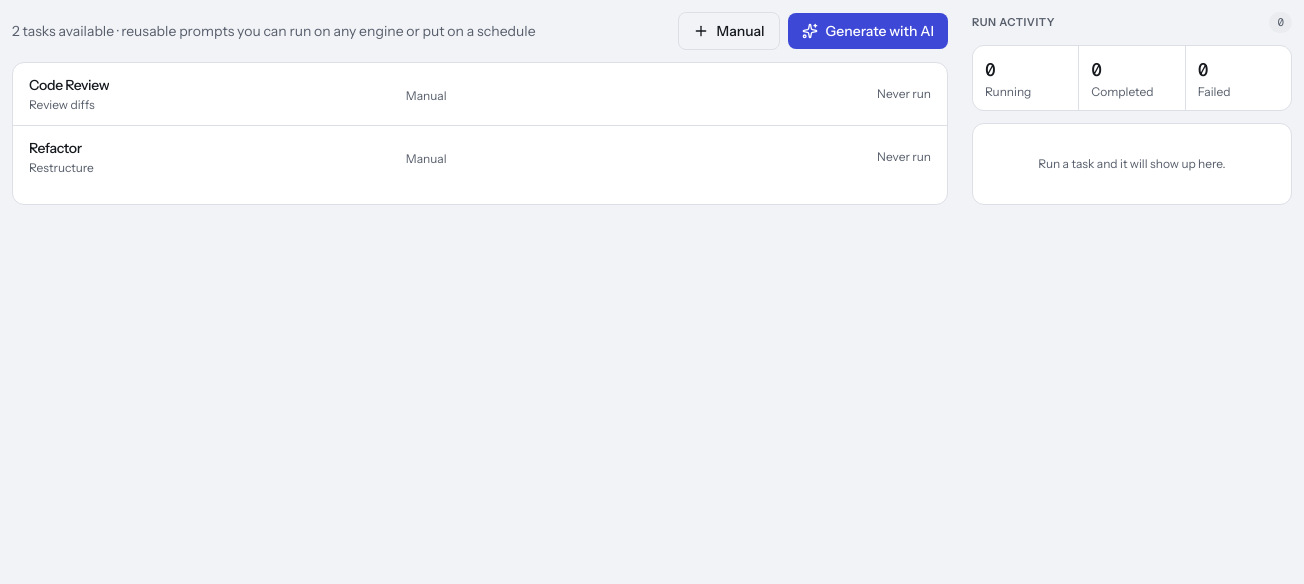
TaskDashboard list and detail › lists tasks and opens the detail on click
Check: the heading "Code Review" is shown, box [29, 75, 109, 95]
Check: the heading "Refactor" is shown, box [29, 138, 82, 158]
Step 1. Click the button "Code Review Review diffs Manual Never run" → x=69, y=85, box [13, 63, 947, 125]
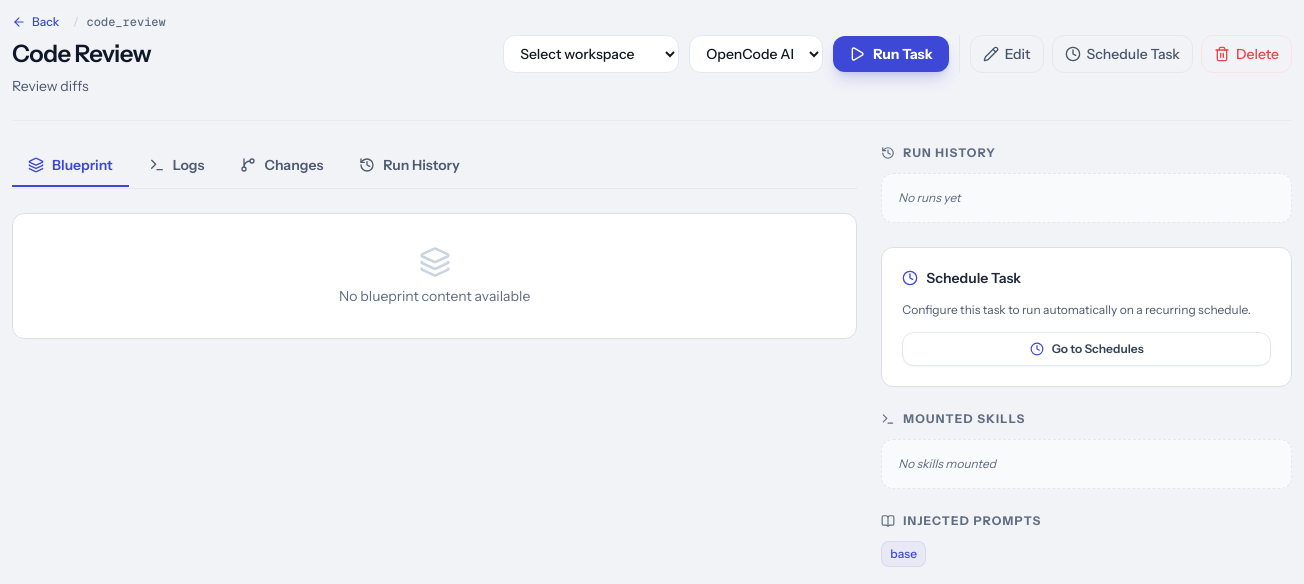
Check: the button "Run Task" is shown, box [833, 36, 949, 72]
